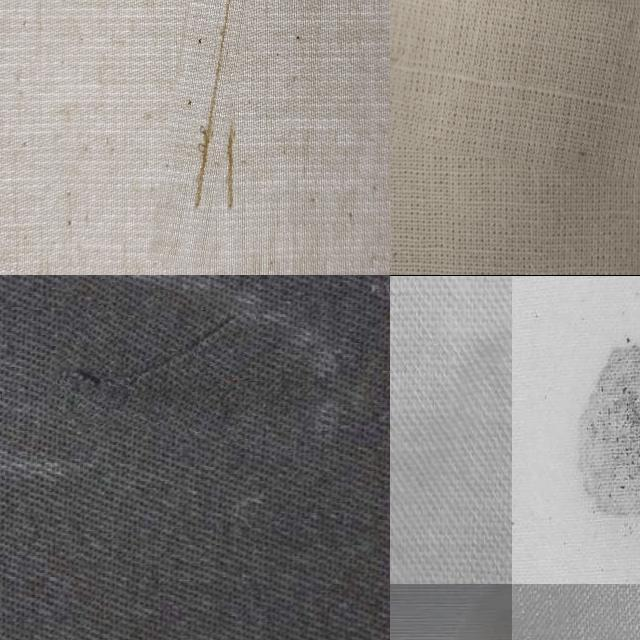Thread_other: (512, 306, 640, 583)
stains: (390, 0, 640, 163), (52, 281, 254, 437), (167, 0, 273, 267)
